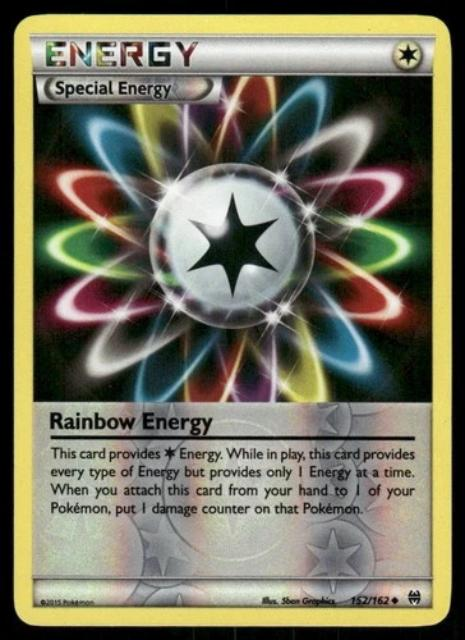Card: (8, 8, 457, 631)
Name: (42, 405, 222, 437)
